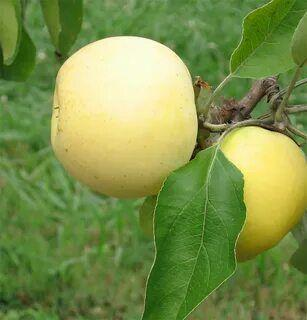Apple: (50, 34, 196, 200), (217, 125, 307, 262)
